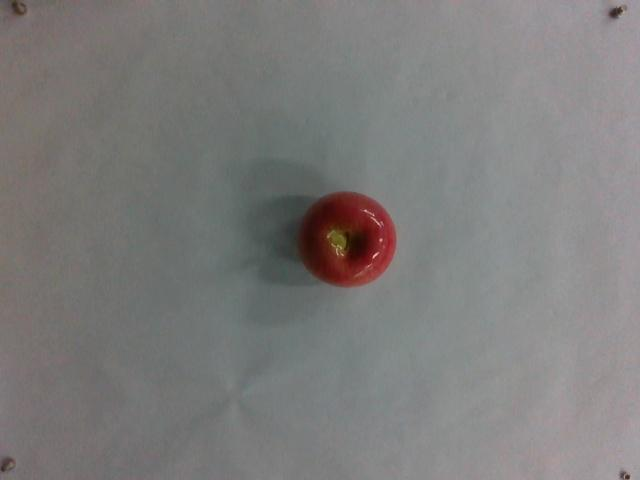apple: (300, 189, 396, 287)
